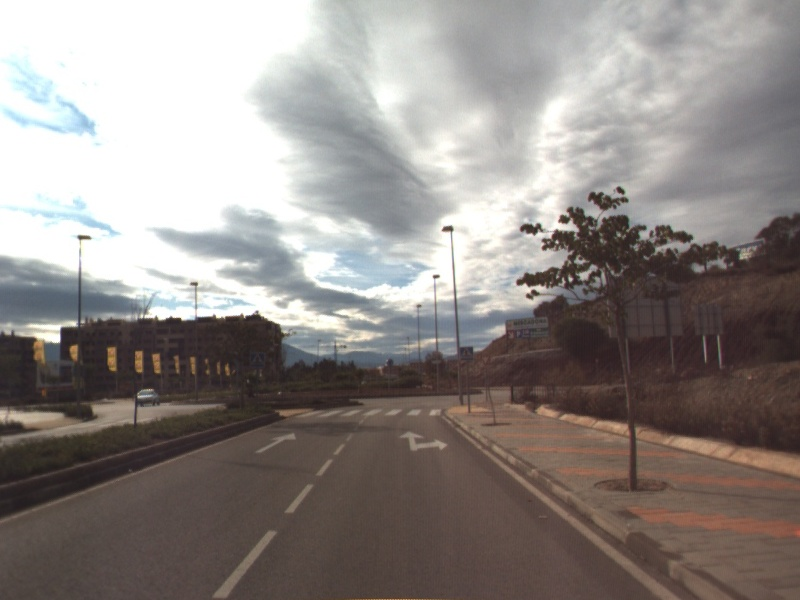STRAIGHT: (253, 431, 298, 455)
STRAIGHT_RIGHT: (397, 429, 450, 453)
